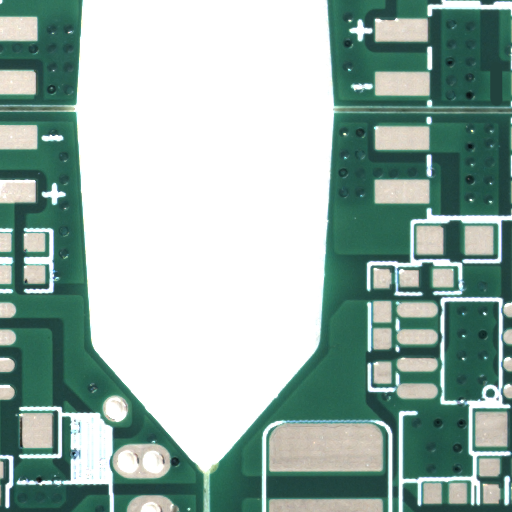Open_circuit: (496, 86, 511, 121)
